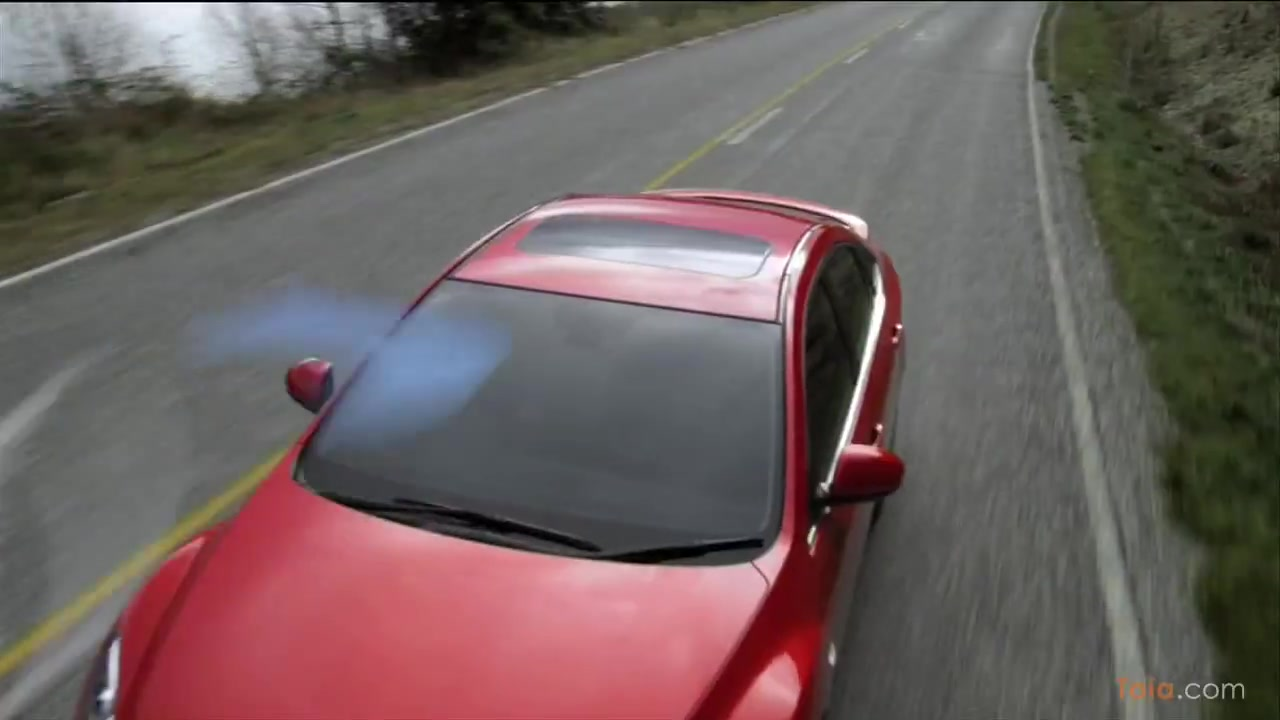car: (71, 186, 909, 720)
